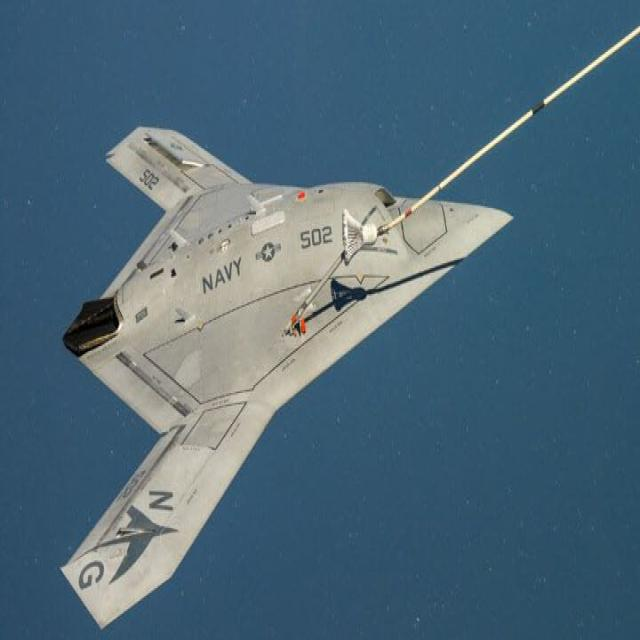iha: (59, 12, 637, 632)
